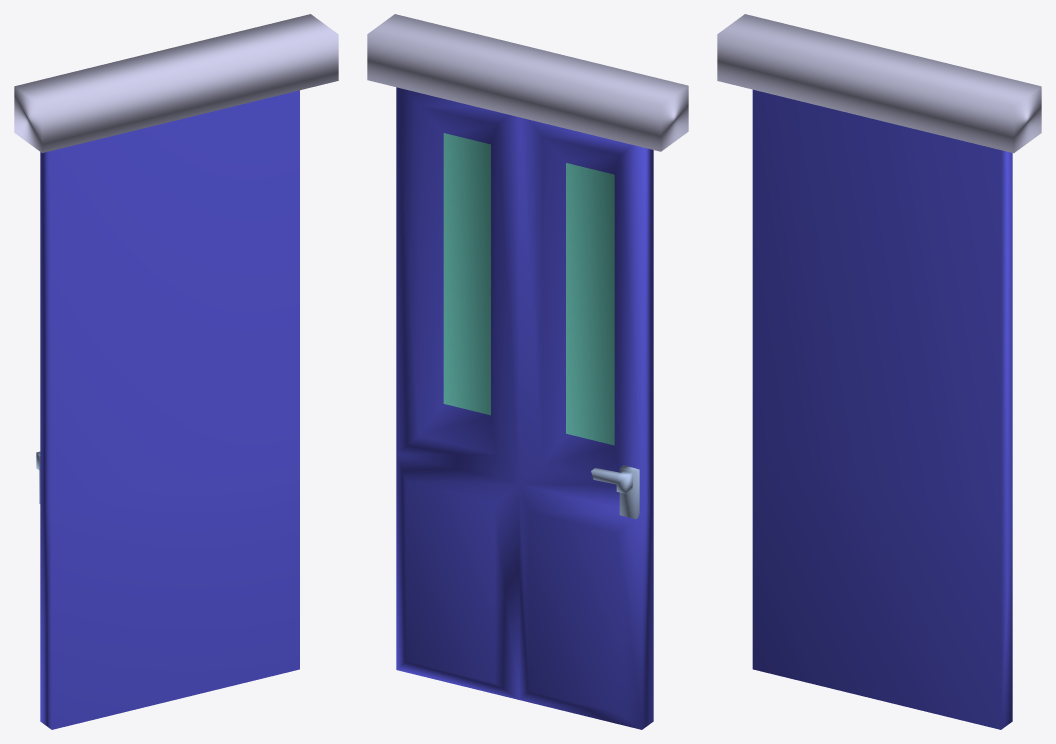
The model's file is Building_A_2.fbx.
The picture shows the model from 3 angles, left to right: view 1: azimuth 30°, elevation 25°; view 2: azimuth 150°, elevation 25°; view 3: azimuth 330°, elevation 25°; orthographic projection.
Visible parts, largest first — view 1: Building_A_2; view 2: Building_A_2; view 3: Building_A_2.
Part boxes in pixels (x1,y1,x2,y2): Building_A_2: (14,14,338,729); Building_A_2: (367,14,688,729); Building_A_2: (717,14,1041,729).
Size of the model in its own units: 104 by 214 by 20.99.
